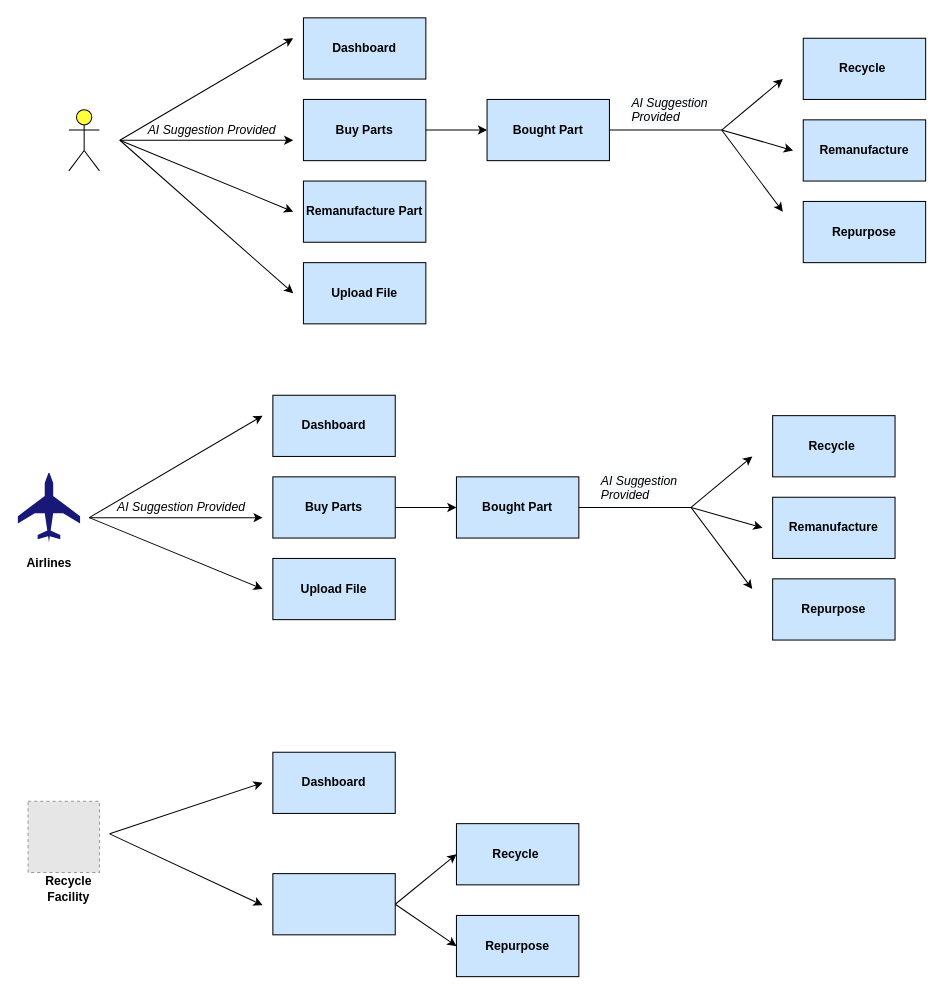
Image size: 944x995. Some labels were removed from this diagram. Grey dashed boxes stand in for pictures. The shapes that lost their labels are listed below. From the top down, each one's centre as x and y in pixels, then its label:
At pixel 83 140: "Airline Manufacturer".
At pixel 333 904: "View Parts".
